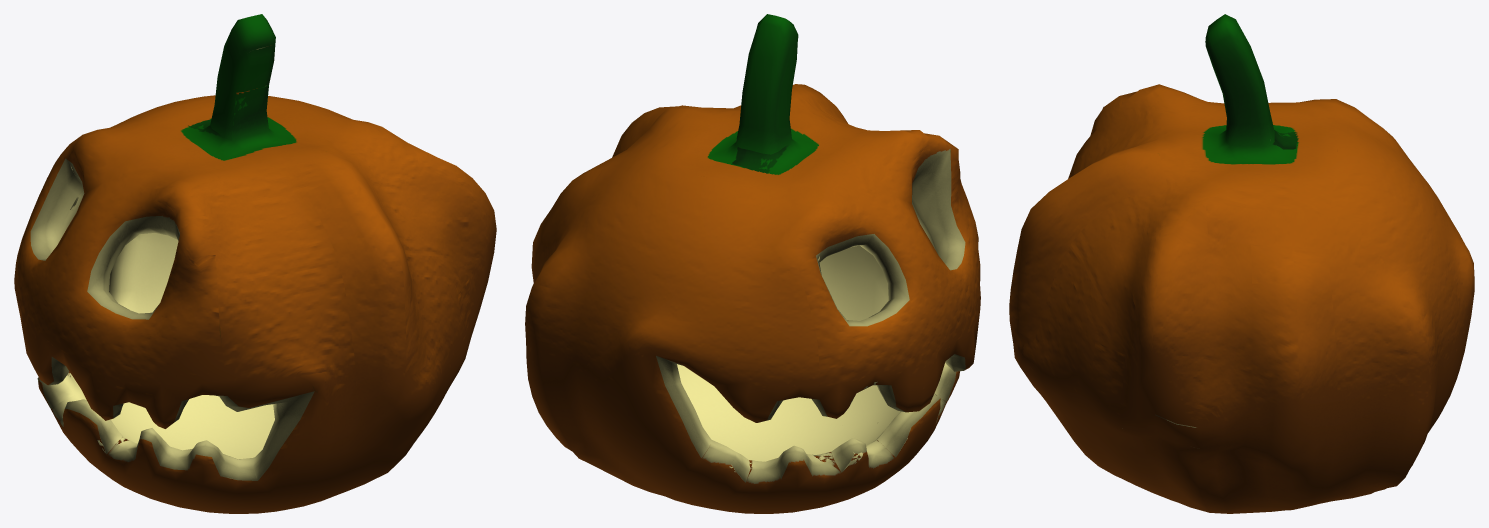
Rendered from pumpkin.fbx.
3 views of the same model, side by side, from view 1: azimuth 30°, elevation 25°; view 2: azimuth 150°, elevation 25°; view 3: azimuth 270°, elevation 25° (orthographic). The views are drawn at different scales.
Visible parts, largest first — view 1: Cube; view 2: Cube; view 3: Cube.
Part boxes in pixels (x1=…): Cube: x1=14, y1=14, x2=496, y2=513; Cube: x1=525, y1=14, x2=980, y2=513; Cube: x1=1009, y1=14, x2=1474, y2=513.
Bounding box in the file's own units: 2.49 × 2.81 × 2.53.
1 material, 1 textured.
